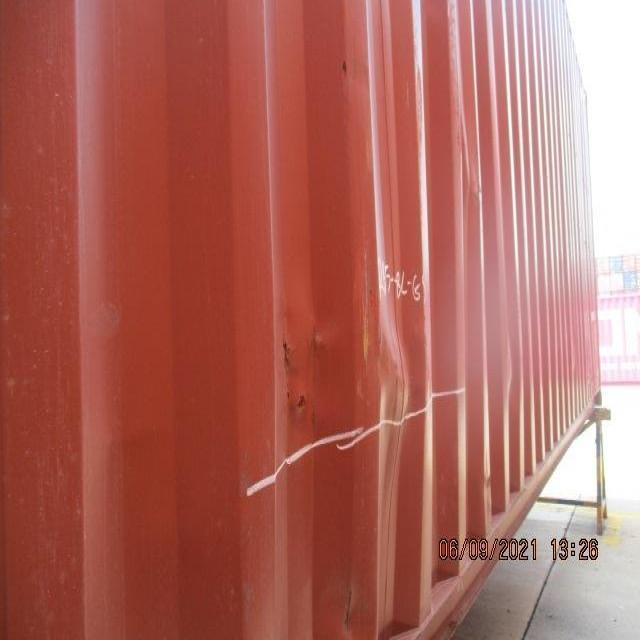dent: (232, 234, 463, 497), (448, 120, 502, 230)
